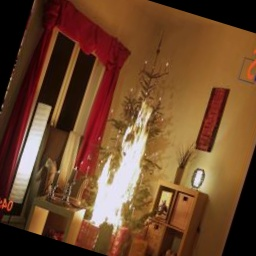fire: (80, 91, 162, 231)
